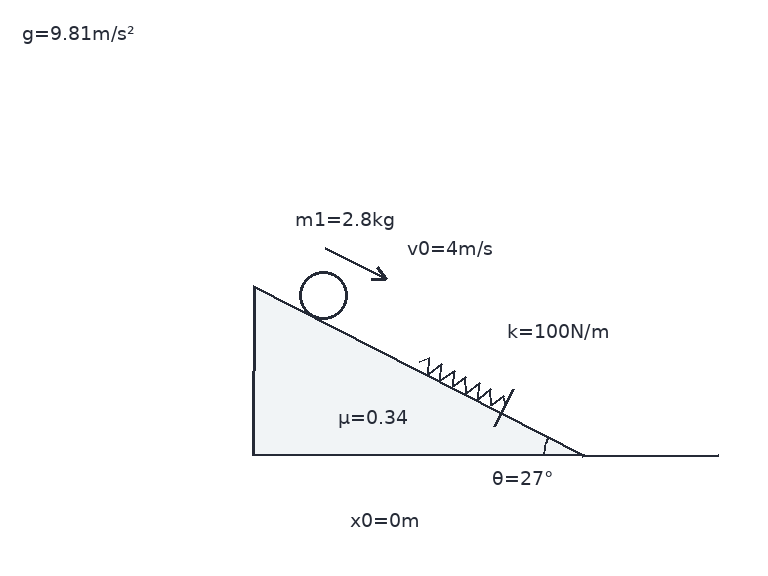ball: (297, 269, 349, 321)
ramp: (251, 285, 586, 457)
spring: (418, 356, 507, 407)
